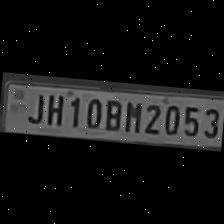0: (82, 95, 104, 131), (160, 100, 181, 136)
1: (64, 93, 84, 128)
2: (139, 100, 162, 136)
3: (200, 104, 222, 139)
5: (178, 102, 201, 138)
B: (101, 96, 123, 132)
H: (42, 91, 66, 127)
J: (23, 89, 45, 125)
M: (120, 98, 142, 134)
